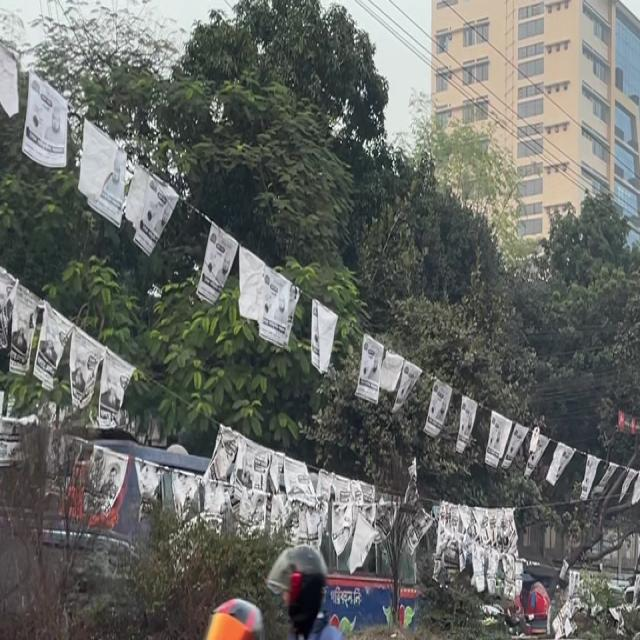motorbike: (67, 539, 369, 640), (567, 627, 640, 640)
